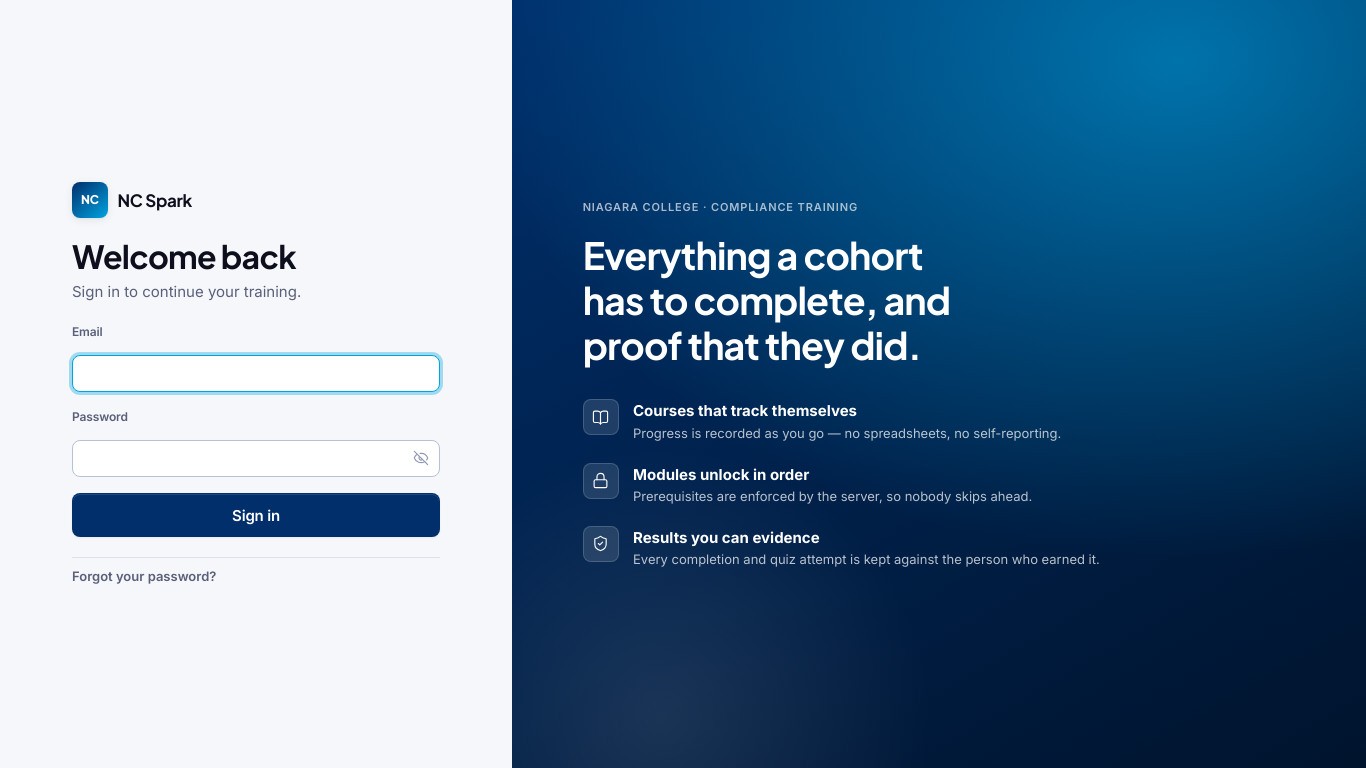
Test: LoginPage › lets you check what you typed before submitting
Type "Rv-y0ke" into the password field labelled "Password" at (256, 458), box [72,440,440,477]
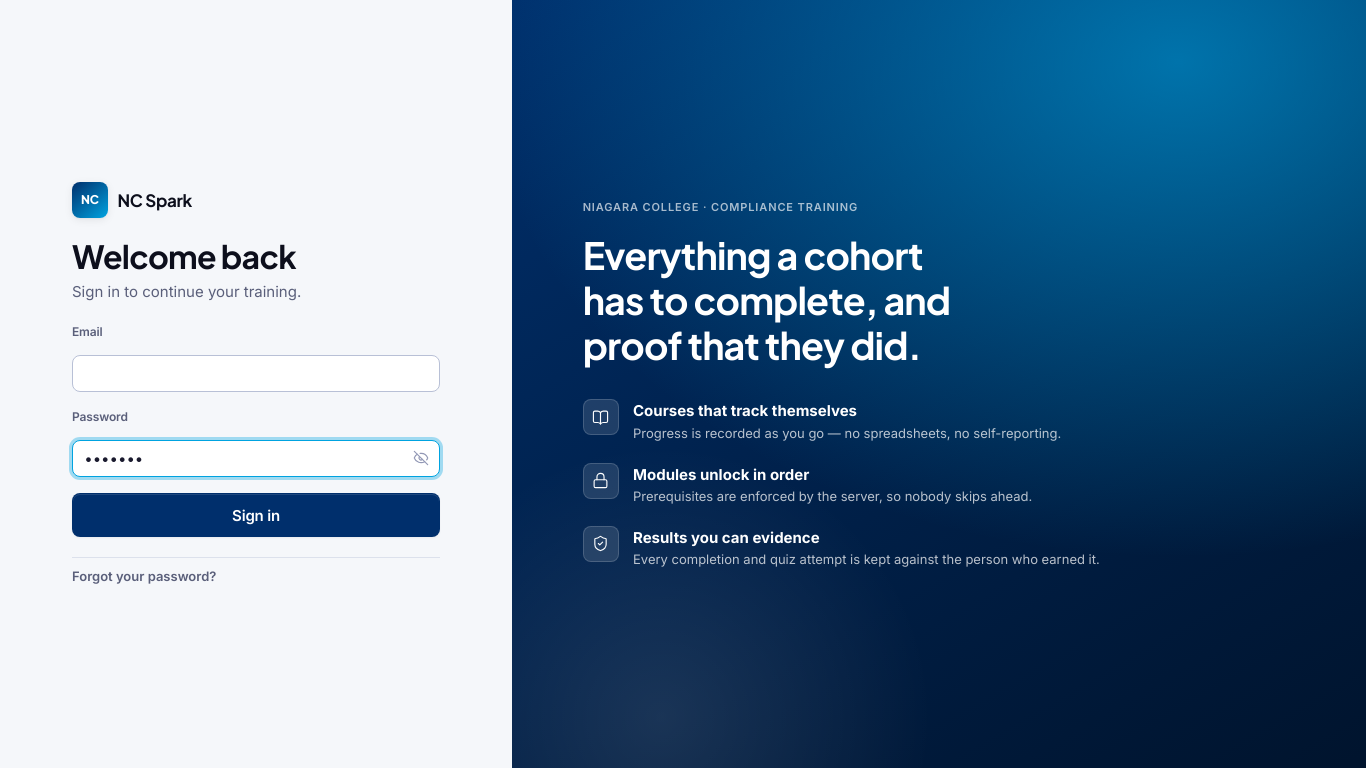
Click the button named "Show password" at (421, 458), box [407,444,435,472]
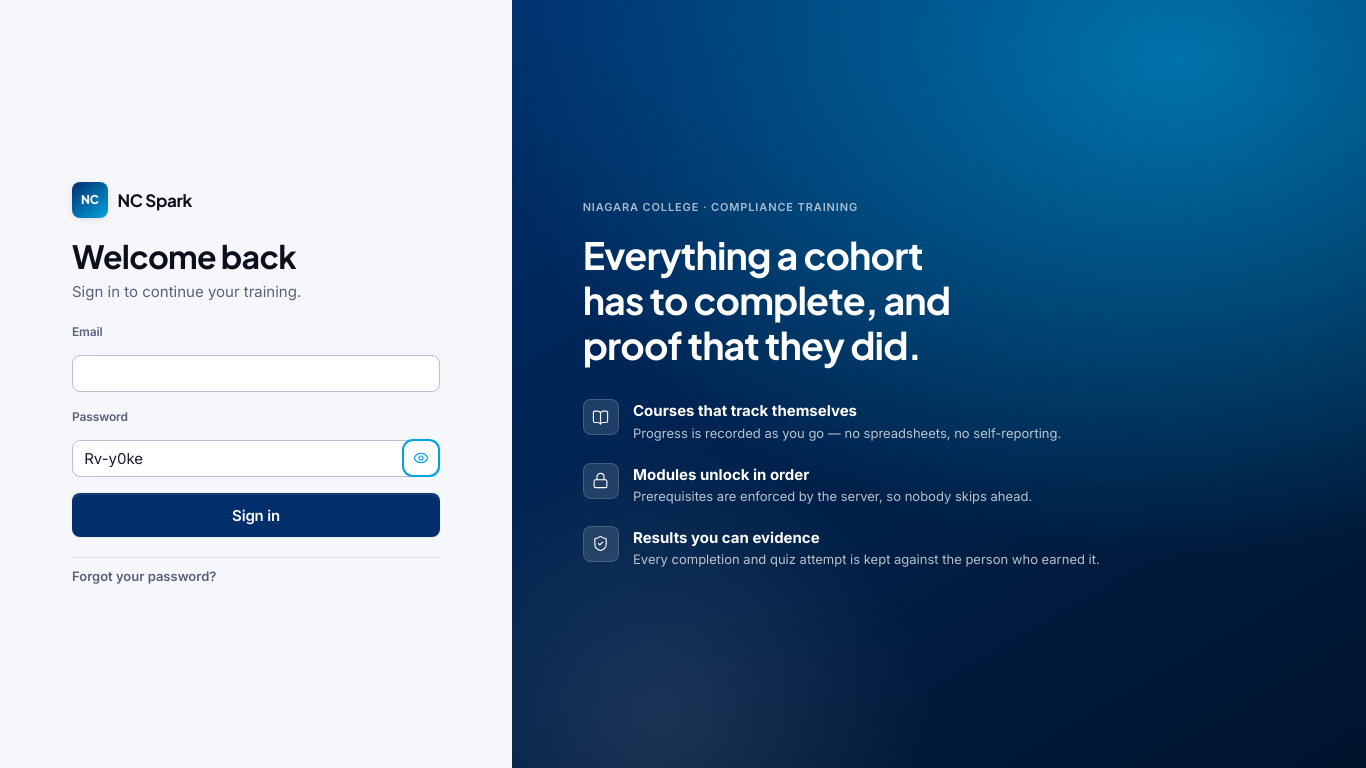
Expected: the field labelled "Password" shows its text, [72,440,440,477]
